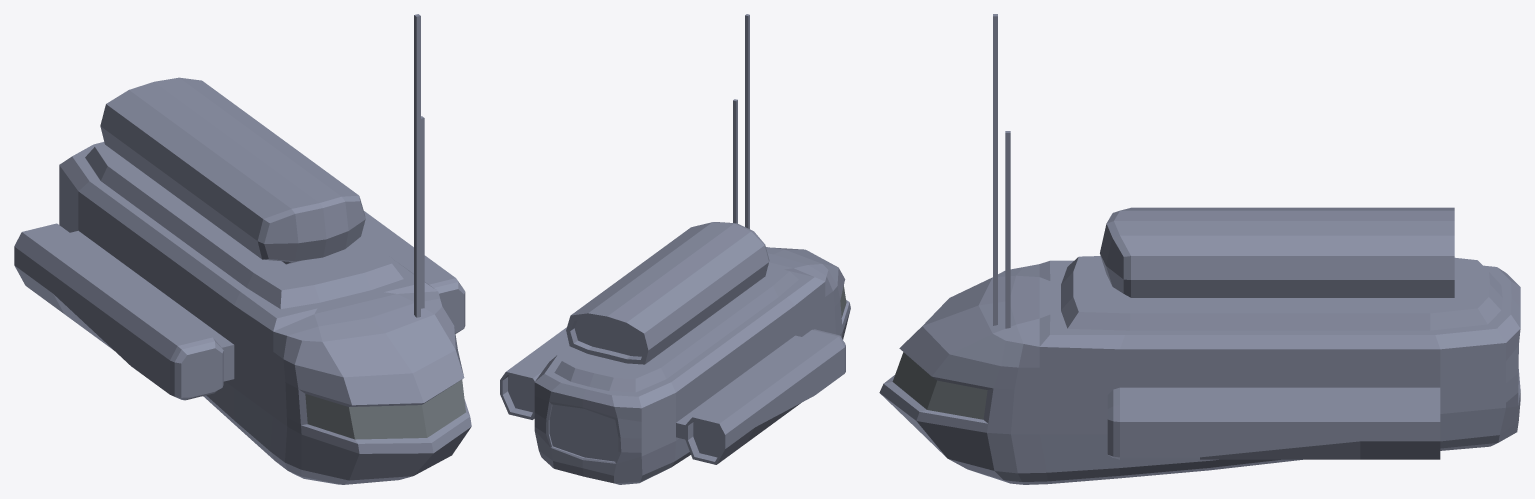
Rendered from ship1.fbx.
The picture shows the model from 3 angles, left to right: view 1: azimuth 30°, elevation 25°; view 2: azimuth 150°, elevation 25°; view 3: azimuth 270°, elevation 25°; orthographic projection. The views are drawn at different scales.
Visible parts, largest first — view 1: ship body, antenna large, antenna small; view 2: ship body, antenna large, antenna small; view 3: ship body, antenna large, antenna small.
Boxes of the visible parts, x1,y1,x2,y2 form: ship body: (14,77,471,484); antenna large: (414,14,420,317); antenna small: (421,116,424,308); ship body: (500,222,850,484); antenna large: (745,14,749,228); antenna small: (733,99,737,223); ship body: (879,207,1520,484); antenna large: (993,14,997,325); antenna small: (1005,131,1010,328).
Bounding box in the file's own units: 356 × 525 × 654.
